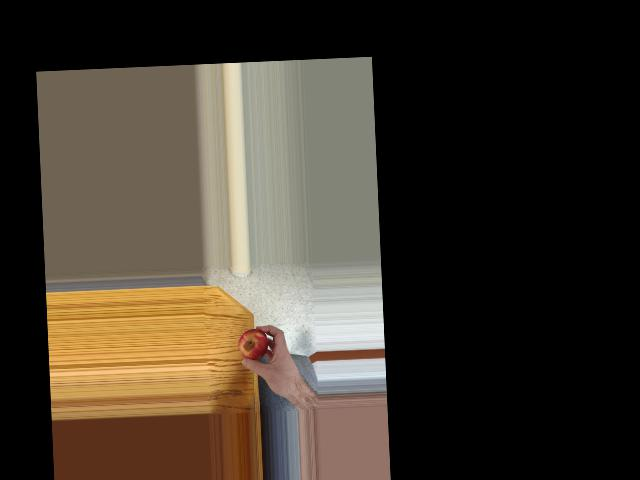apple: (237, 326, 270, 365)
